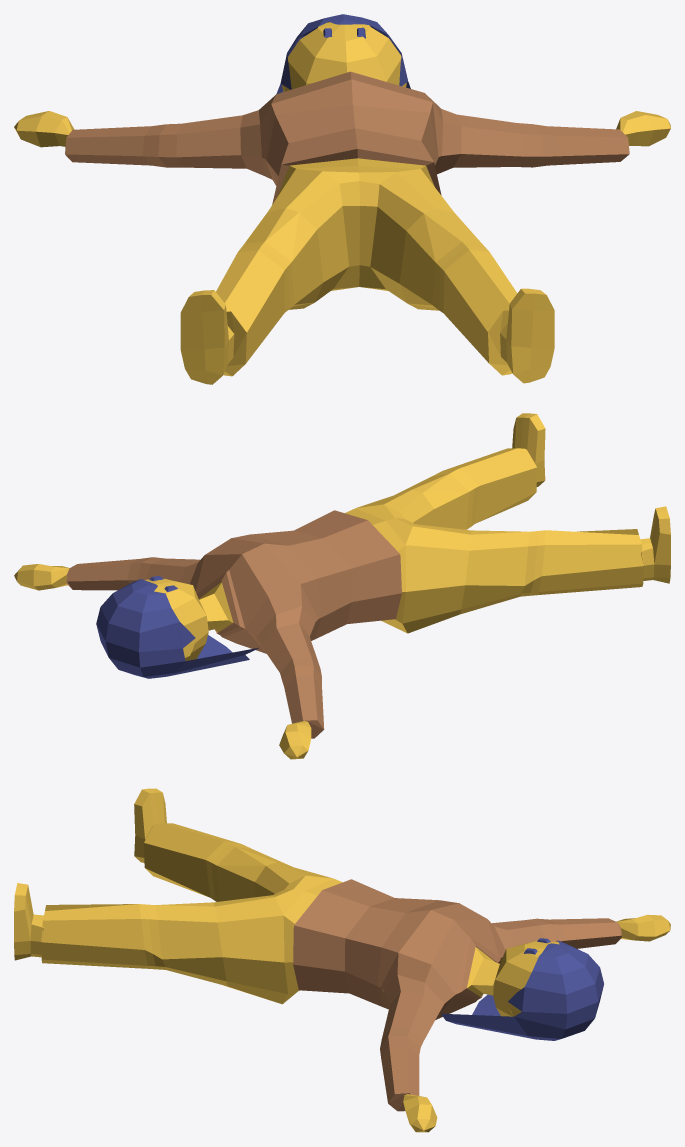
File: 111_寝転がり(Woman).glb
The picture shows the model from 3 angles, top to bottom: view 1: azimuth 30°, elevation 25°; view 2: azimuth 150°, elevation 25°; view 3: azimuth 270°, elevation 25°; orthographic projection. The views are drawn at different scales.
Parts seen in each view (by area): view 1: 立方体022_2, 立方体022_4, 立方体022_1, 立方体022_3, 立方体022; view 2: 立方体022_2, 立方体022_4, 立方体022, 立方体022_1, 立方体022_3; view 3: 立方体022_2, 立方体022_4, 立方体022, 立方体022_1, 立方体022_3.
Part boxes in pixels (x1,y1,x2,y2): 立方体022_2: [216, 158, 517, 376]; 立方体022_4: [65, 71, 629, 204]; 立方体022_1: [180, 22, 554, 384]; 立方体022_3: [14, 111, 670, 147]; 立方体022: [276, 14, 410, 94]; 立方体022_2: [345, 448, 643, 633]; 立方体022_4: [66, 510, 401, 738]; 立方体022: [96, 576, 258, 678]; 立方体022_1: [145, 413, 670, 660]; 立方体022_3: [14, 564, 311, 759]; 立方体022_2: [41, 823, 342, 1004]; 立方体022_4: [293, 879, 621, 1111]; 立方体022: [441, 938, 603, 1040]; 立方体022_1: [14, 788, 559, 1016]; 立方体022_3: [403, 914, 670, 1132].
Bounding box in the file's own units: 2.05 × 0.3924 × 2.21.
